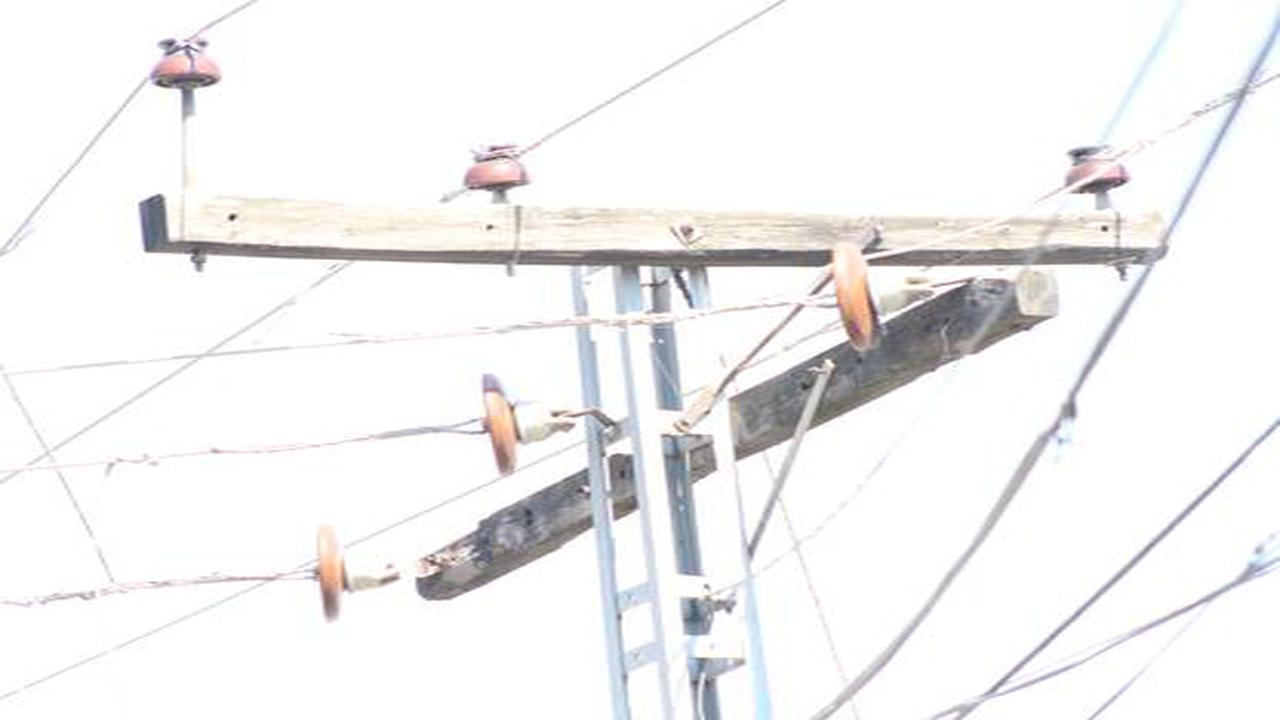insulator_disc: (832, 244, 904, 357), (480, 368, 551, 479), (314, 520, 382, 626)
insulator_pin: (1061, 135, 1136, 201), (149, 31, 222, 96), (460, 135, 538, 193)
